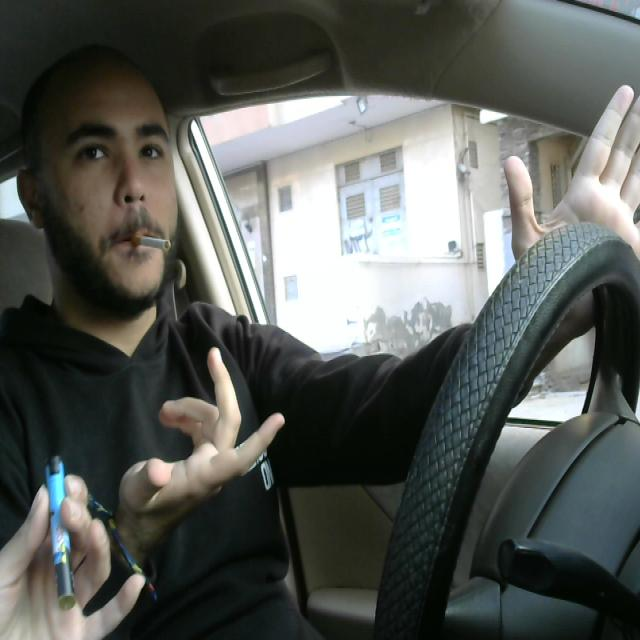smoking: (126, 227, 178, 265)
